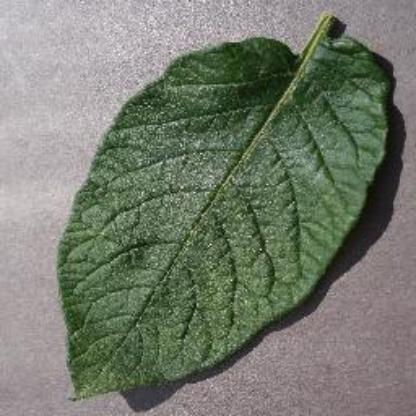Healthy-plant: (56, 13, 392, 403)
